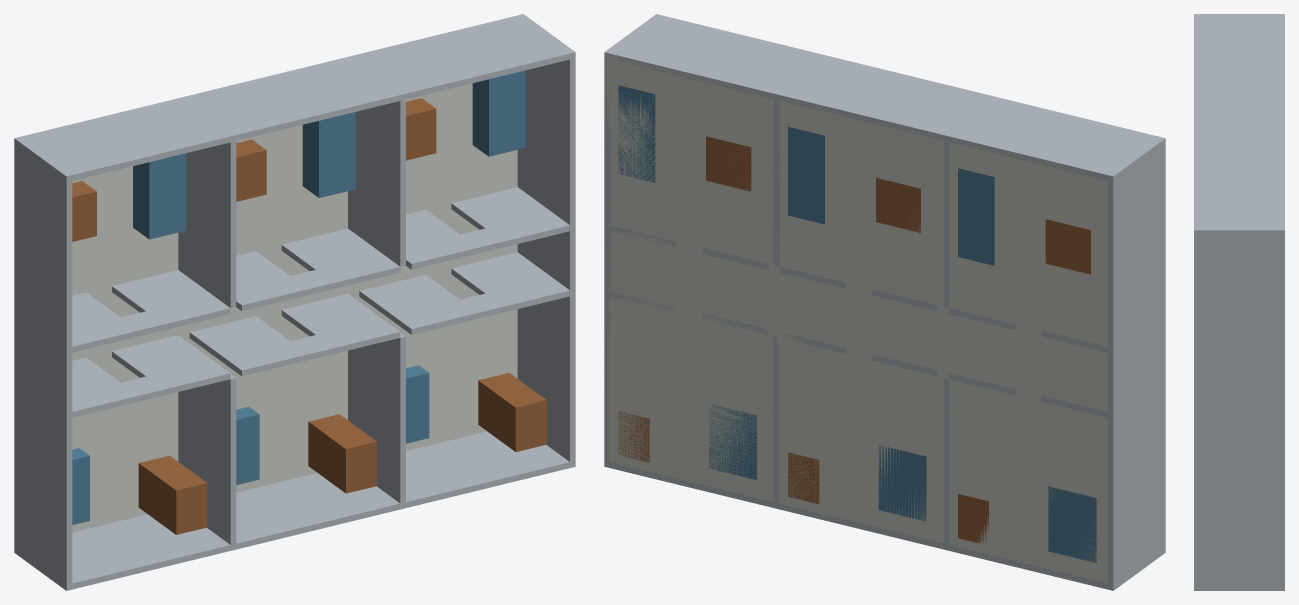
File: apartment.obj
3 renders of one model, left to right at view 1: azimuth 30°, elevation 25°; view 2: azimuth 150°, elevation 25°; view 3: azimuth 270°, elevation 25°, orthographic. The views are drawn at different scales.
Parts seen in each view (by area): view 1: ground-visual-only, north-wall, west-wall, south-wall, east-wall, partition-5.8-8.2, partition-11.8-8.2, partition-5.8-0.2, partition-11.8-0.2, wardrobe-0, wardrobe-1, wardrobe-2 (+21 smaller); view 2: ground-visual-only, north-wall, west-wall, south-wall, sofa-1, sofa-0, bed-0, bed-1, sofa-2, bed-2, east-wall, table-0 (+9 smaller); view 3: east-wall, north-wall, south-wall.
Boxes of the visible parts, x1=… form: ground-visual-only: x1=72, y1=83, x2=517, y2=532; north-wall: x1=14, y1=14, x2=575, y2=182; west-wall: x1=14, y1=144, x2=72, y2=584; south-wall: x1=14, y1=431, x2=575, y2=590; east-wall: x1=517, y1=58, x2=575, y2=461; partition-5.8-8.2: x1=178, y1=141, x2=236, y2=307; partition-11.8-8.2: x1=348, y1=99, x2=405, y2=266; partition-5.8-0.2: x1=178, y1=374, x2=236, y2=544; partition-11.8-0.2: x1=348, y1=332, x2=405, y2=503; wardrobe-0: x1=138, y1=455, x2=207, y2=534; wardrobe-1: x1=308, y1=414, x2=376, y2=493; wardrobe-2: x1=478, y1=373, x2=546, y2=451; ground-visual-only: x1=604, y1=52, x2=1113, y2=589; north-wall: x1=604, y1=14, x2=1165, y2=182; west-wall: x1=1107, y1=144, x2=1165, y2=584; south-wall: x1=604, y1=461, x2=1165, y2=590; sofa-1: x1=788, y1=126, x2=824, y2=224; sofa-0: x1=958, y1=168, x2=994, y2=265; bed-0: x1=1048, y1=486, x2=1096, y2=562; bed-1: x1=878, y1=445, x2=926, y2=521; sofa-2: x1=618, y1=85, x2=655, y2=182; bed-2: x1=709, y1=404, x2=756, y2=480; east-wall: x1=604, y1=79, x2=609, y2=461; table-0: x1=1045, y1=219, x2=1090, y2=274; east-wall: x1=1194, y1=235, x2=1284, y2=585; north-wall: x1=1194, y1=14, x2=1284, y2=235; south-wall: x1=1194, y1=586, x2=1284, y2=590.
Bounding box in the file's own units: 18 × 14 × 3.2.
